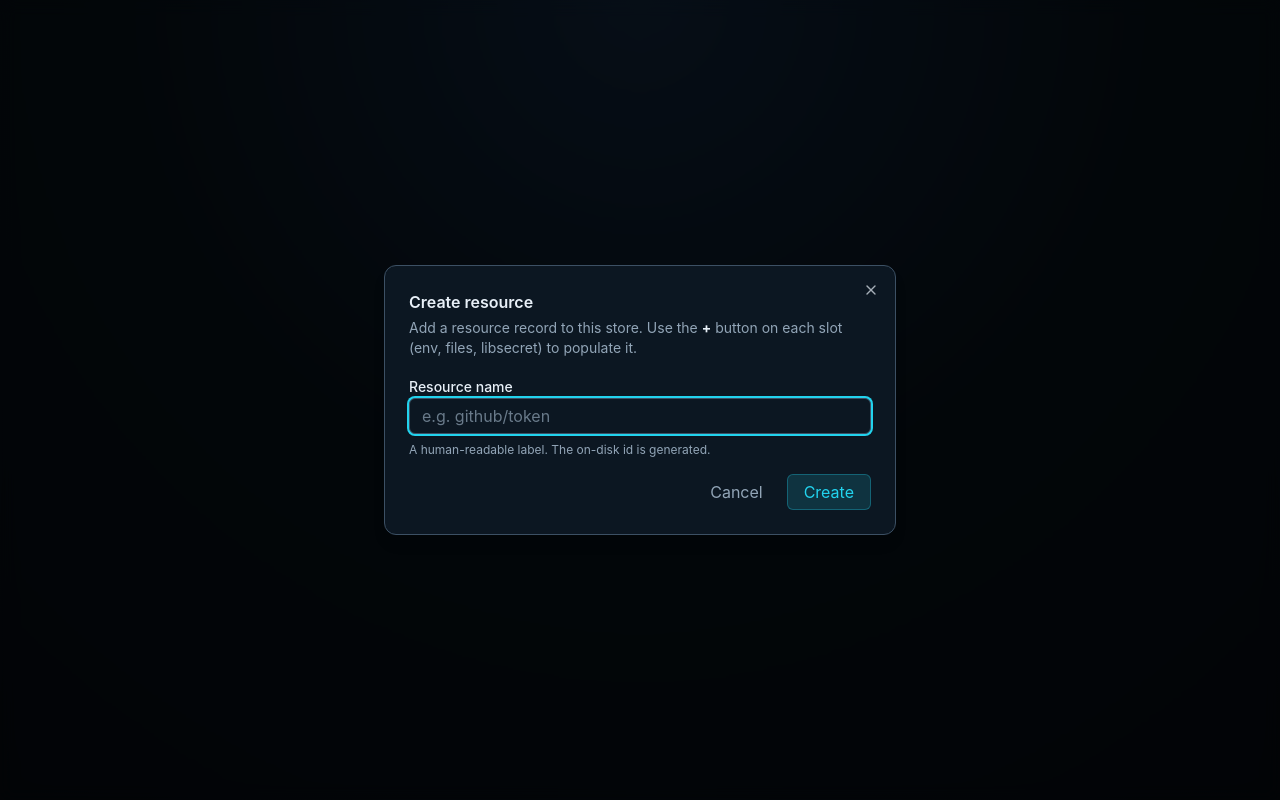
CreateResourceDialog › rejects a duplicate name without hitting the network
The width and height of the screenshot is (1280, 800).
Type "github/token" into the field with test id "create-resource-input". click: coordinates (640, 416)
box: [409, 398, 871, 434]
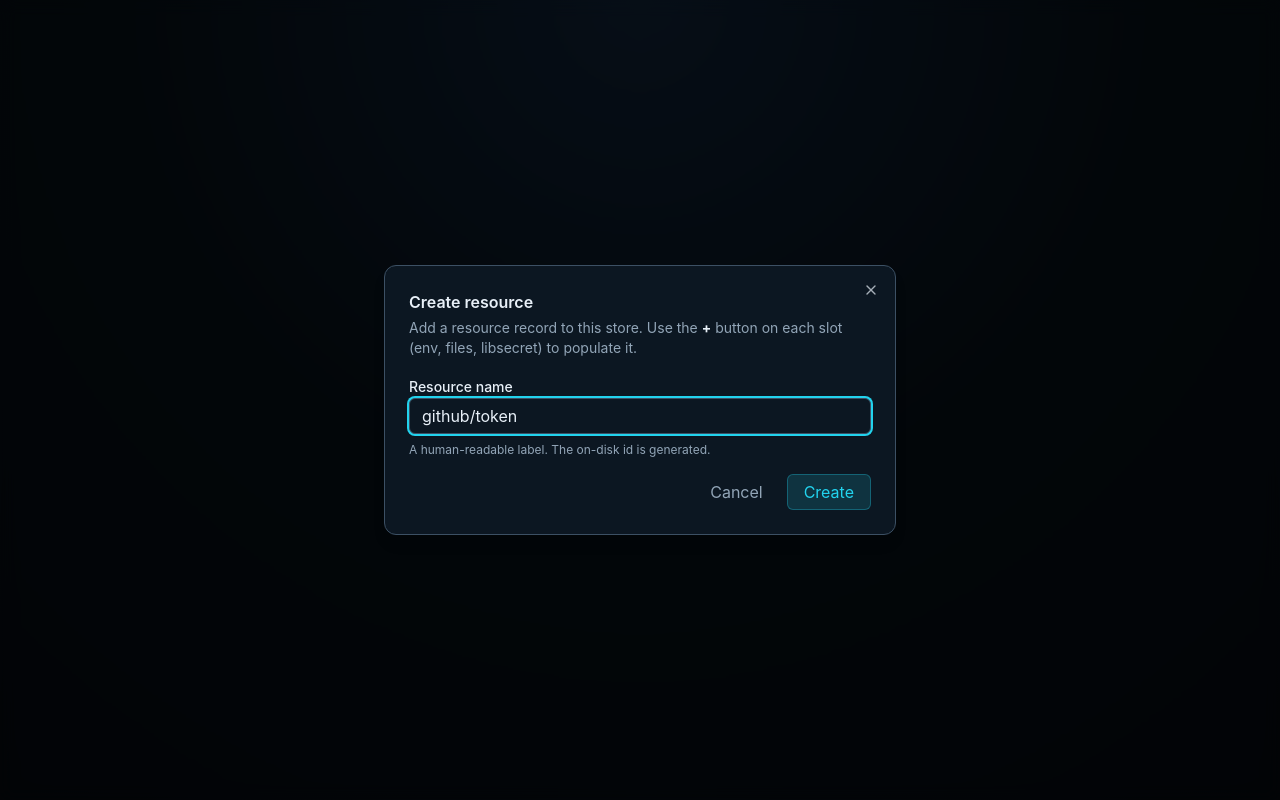
Click the button "Create". click: coordinates (829, 492)
box: [787, 474, 871, 510]
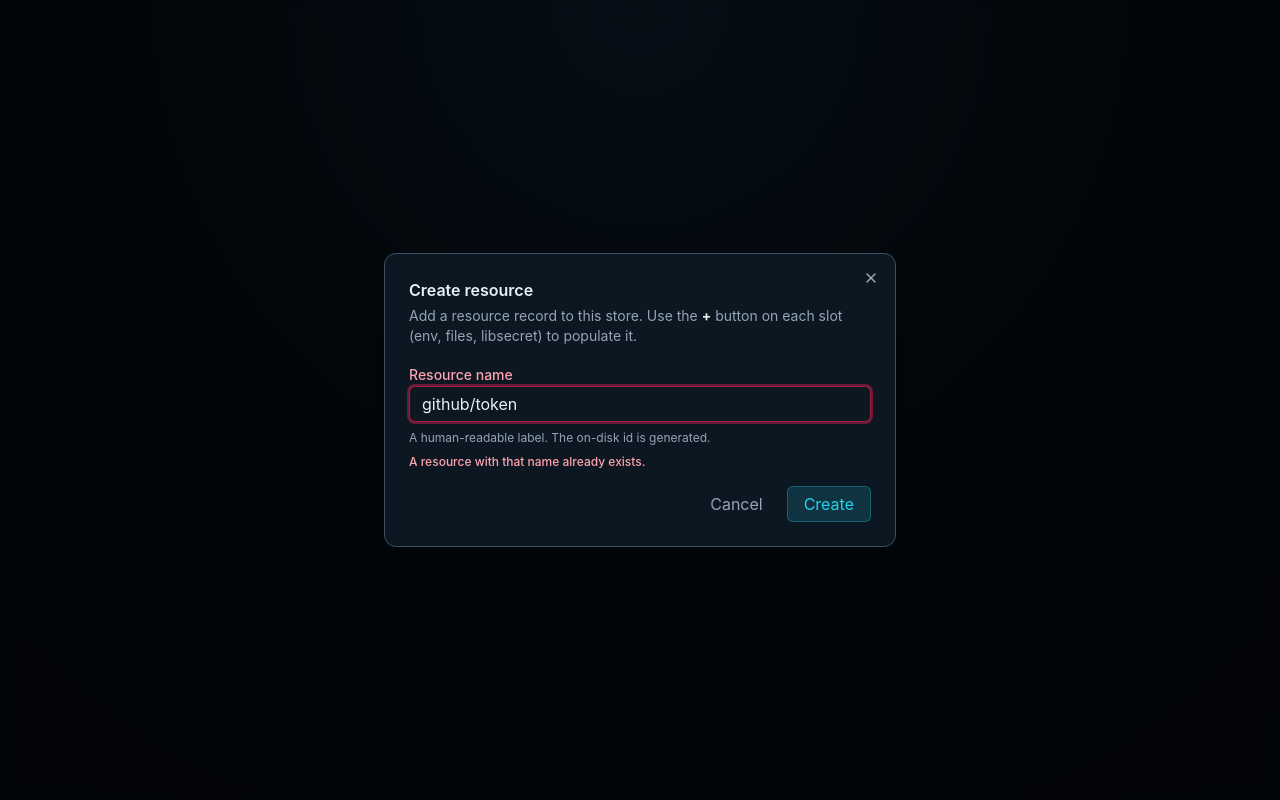
Check: the text "A resource with that name already exists." is shown, box [409, 454, 645, 469]
